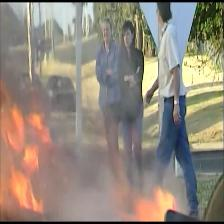fire: (0, 73, 72, 224), (106, 163, 187, 222)
